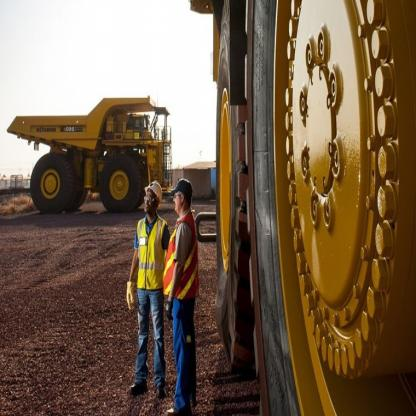dump_truck: (7, 82, 185, 209)
person: (120, 175, 174, 402), (162, 182, 216, 402)
